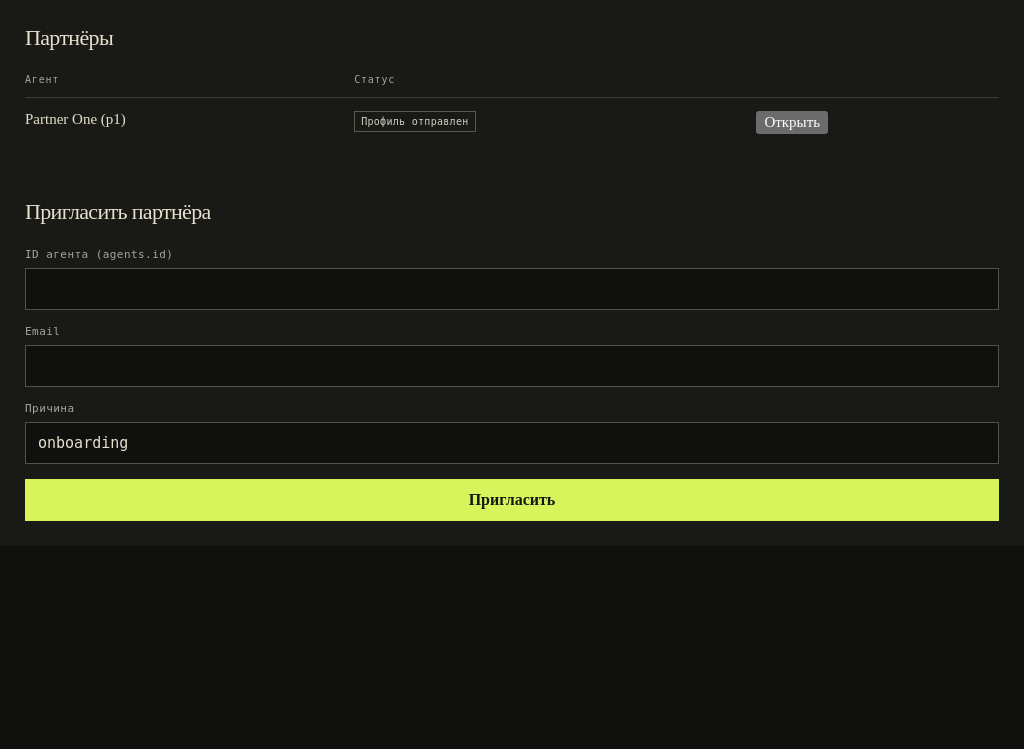
Test case: Partners (Agent Referrals admin console) › re-reads authoritative state after an ambiguous command failure, instead of leaving stale data on screen
This screenshot has width=1024, height=749.
Click the button "Открыть" at [792, 122], box [756,111,828,134]
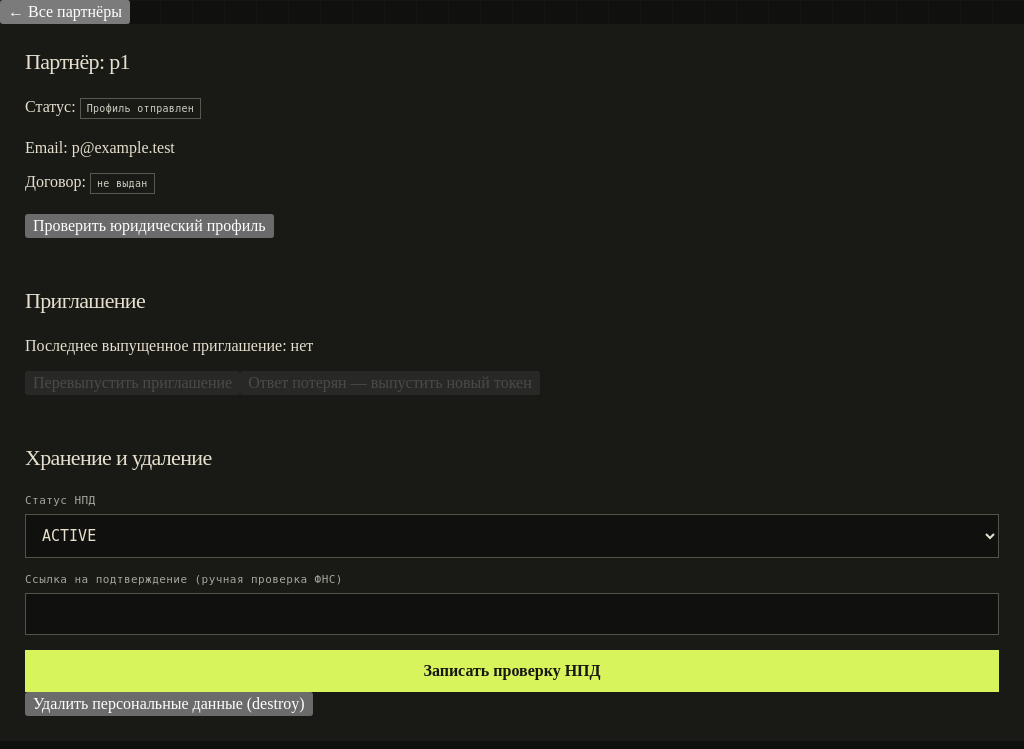
Expected: the button "Проверить юридический профиль" is shown
Click the button "Проверить юридический профиль" at [149, 226], box [25,214,274,238]
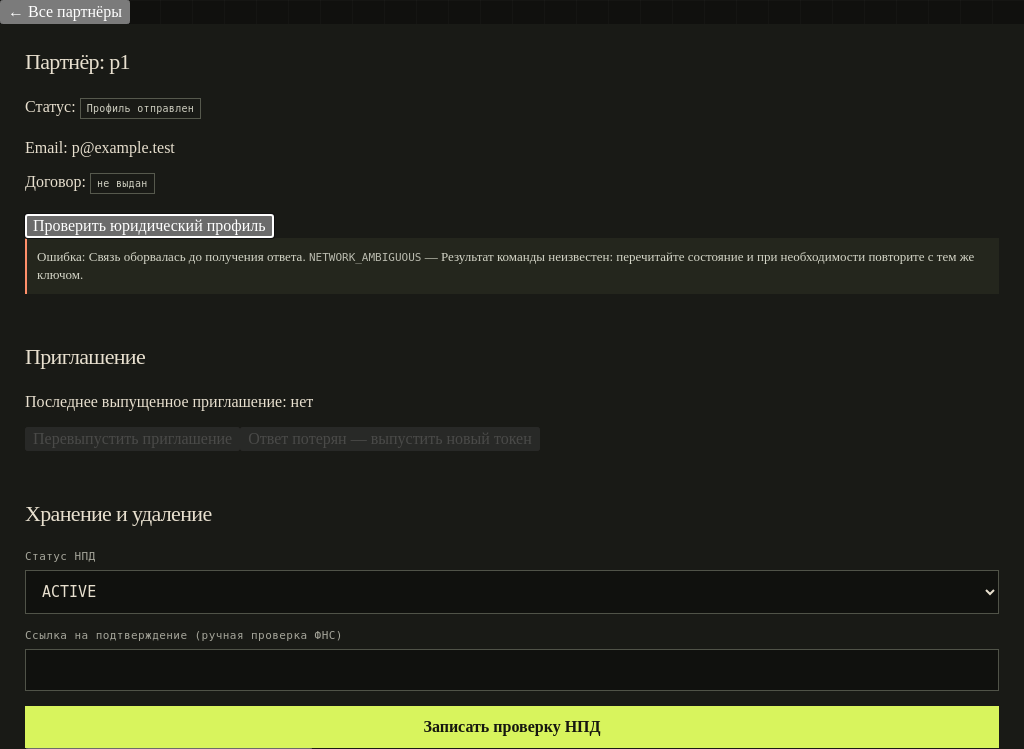
Expected: the text "NETWORK_AMBIGUOUS" is shown, [309,251,422,264]
